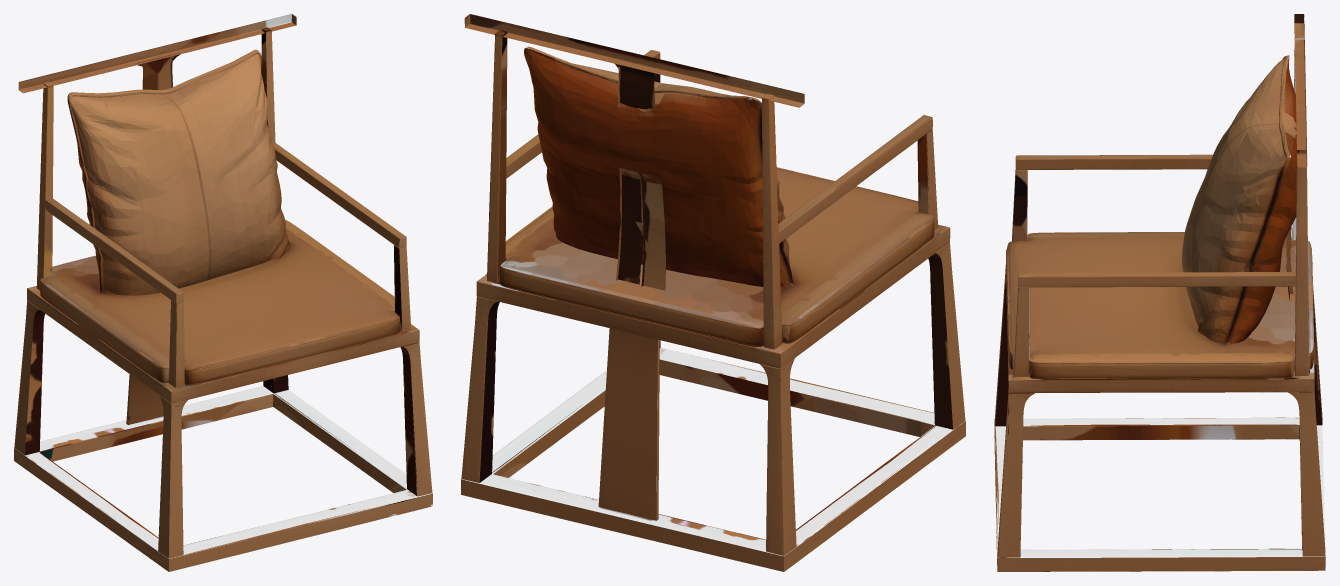
The model's file is edited_mesh.glb.
3 views of the same model, side by side, from view 1: azimuth 30°, elevation 25°; view 2: azimuth 150°, elevation 25°; view 3: azimuth 270°, elevation 25° (orthographic). The views are drawn at different scales.
Visible parts, largest first — view 1: solid_001_wire; view 2: solid_001_wire; view 3: solid_001_wire.
Part boxes in pixels (box(x1,y1,x2,y2)): solid_001_wire: box(14, 14, 432, 571); solid_001_wire: box(461, 14, 965, 571); solid_001_wire: box(994, 14, 1325, 571).
Size of the model in its own units: 1.08 by 1.46 by 1.05.
Materials: 1 (1 with a texture image).
